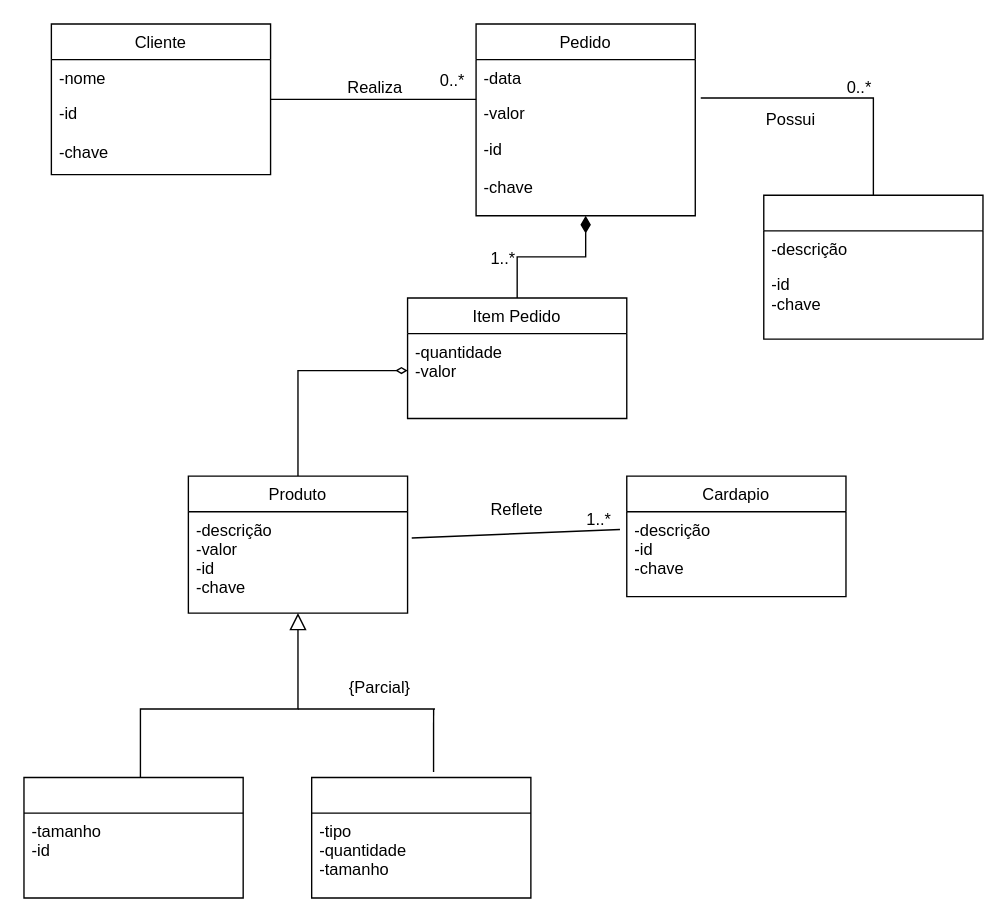
Some shapes in this 1007 by 922 pixel diagram are drawn without their labels. The box of each missing label's shape, as (x1, y1, x2, y2) in pixels:
Bebida: (310, 776, 531, 898)
Estoque: (762, 194, 983, 339)
Poke: (23, 776, 243, 898)
